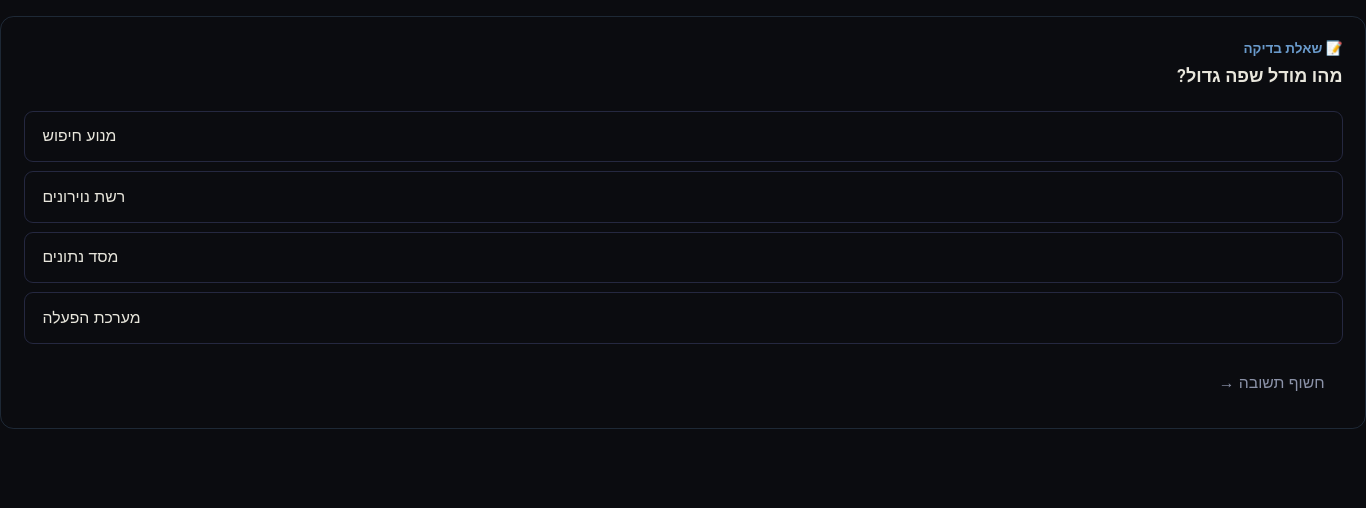
Scenario: QuizQuestion › shows explanation after reveal
Step 1. Click the radio button with aria-label "תשובה 2" → click(84, 196), box [24,171,1342,223]
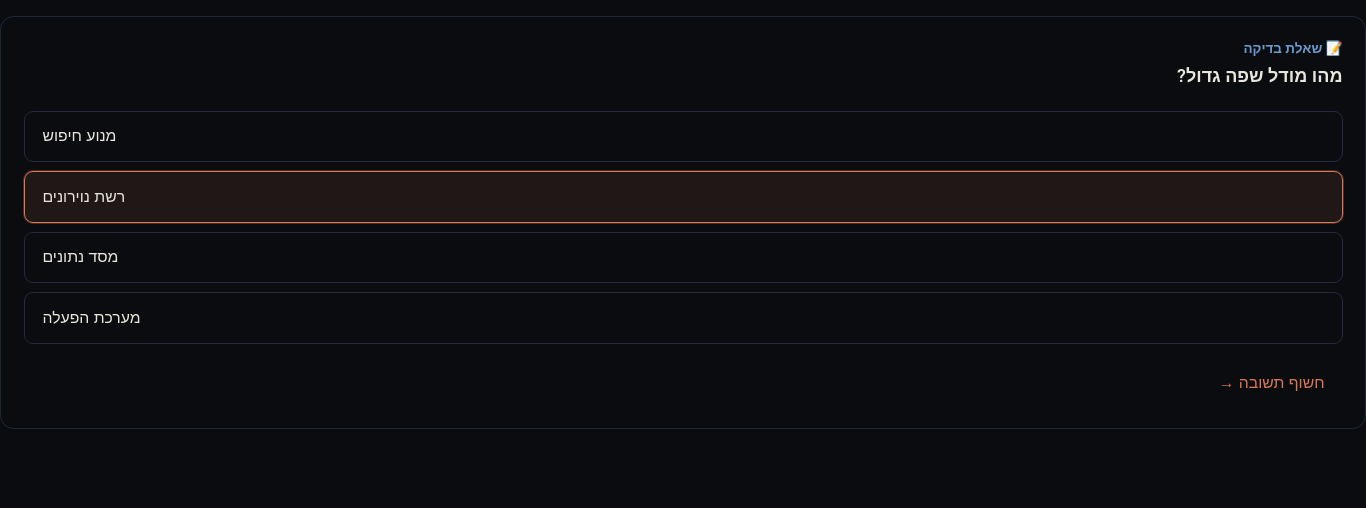
Step 2. Click the button "חשוף תשובה →" → click(1272, 384), box [1201,362,1342,406]
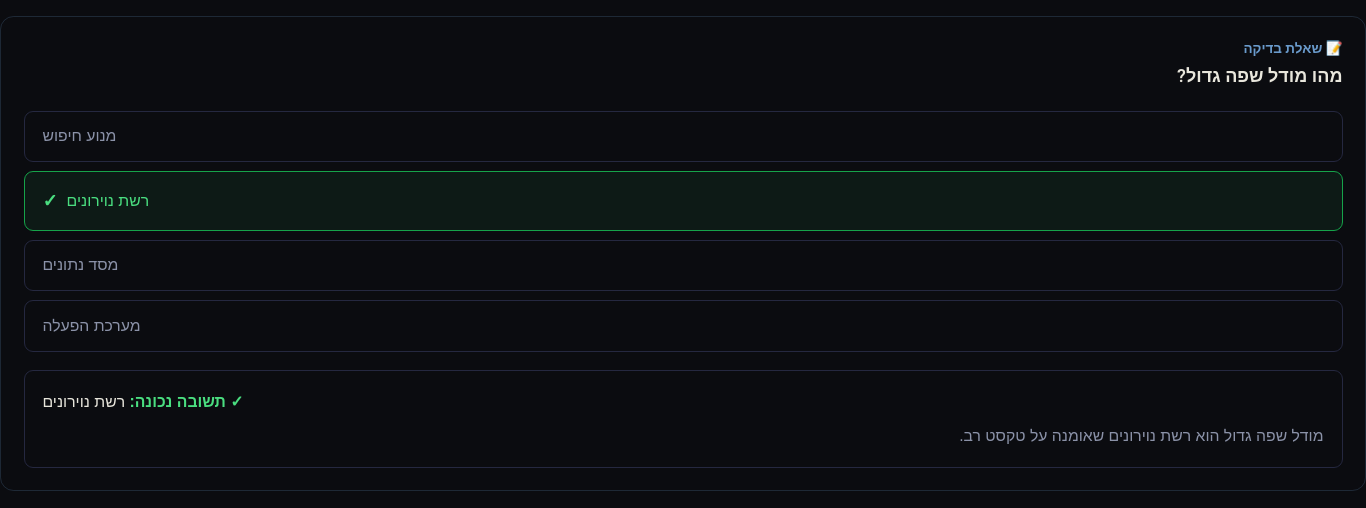
Expected: the text "מודל שפה גדול הוא רשת נוירונים שאומנה על טקסט רב." is shown, [959,427,1324,444]
